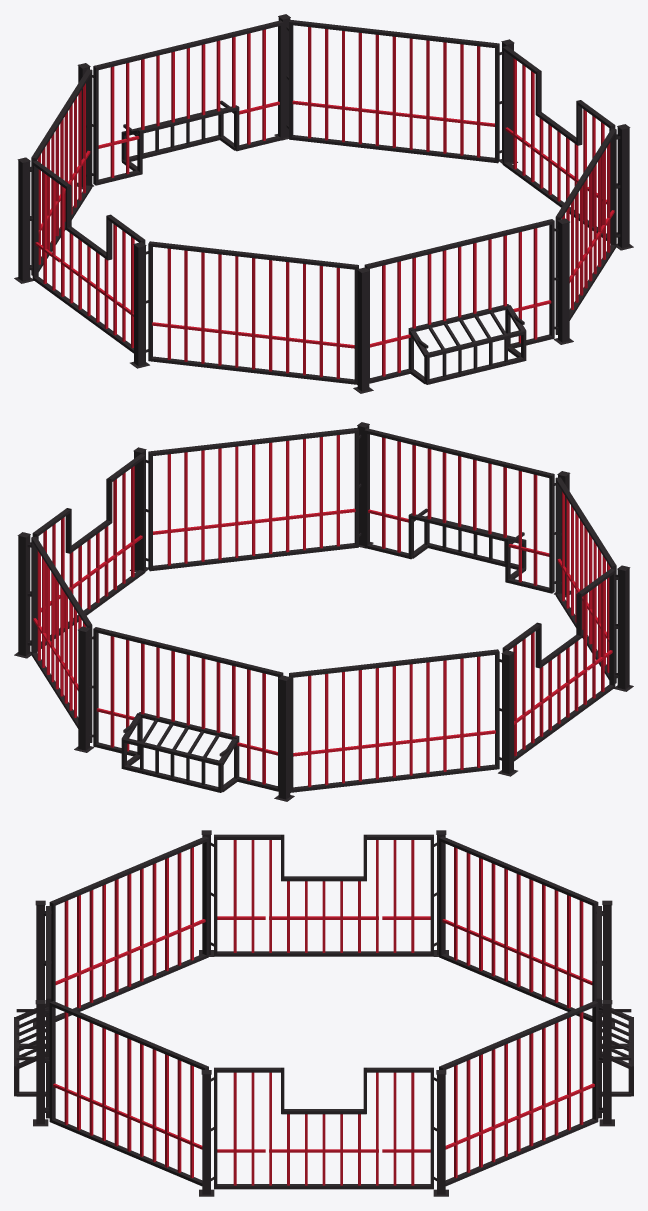
The model's file is gamefields-panna-octa-hero.glb.
3 views of the same model, one above another, from view 1: azimuth 30°, elevation 25°; view 2: azimuth 150°, elevation 25°; view 3: azimuth 270°, elevation 25° (orthographic).
Visible parts, largest first — view 1: Panel 6 wypelnienie, Panel 2 wypelnienie, Panel 5 wypelnienie, Panel 3 wypelnienie, Panel 7 wypelnienie, Panel 8 wypelnienie, Panel 7 bramka, Panel 1 wypelnienie, Panel 4 wypelnienie, Panel 2 rama, Panel 6 rama, Panel 3 rama (+13 smaller); view 2: Panel 4 wypelnienie, Panel 8 wypelnienie, Panel 5 wypelnienie, Panel 7 wypelnienie, Panel 3 wypelnienie, Panel 2 wypelnienie, Panel 3 bramka, Panel 1 wypelnienie, Panel 6 wypelnienie, Panel 8 rama, Panel 4 rama, Panel 7 rama (+13 smaller); view 3: Panel 2 wypelnienie, Panel 8 wypelnienie, Panel 4 wypelnienie, Panel 6 wypelnienie, Panel 1 wypelnienie, Panel 5 wypelnienie, Panel 1 rama, Panel 5 rama, Panel 4 rama, Panel 6 rama, Panel 2 rama, Panel 8 rama (+10 smaller).
Boxes of the visible parts, left/top/right/bottom form: Panel 6 wypelnienie: left=152, top=248, right=354, bottom=379; Panel 2 wypelnienie: left=292, top=27, right=494, bottom=157; Panel 5 wypelnienie: left=35, top=173, right=134, bottom=348; Panel 3 wypelnienie: left=98, top=29, right=279, bottom=177; Panel 7 wypelnienie: left=370, top=228, right=551, bottom=376; Panel 8 wypelnienie: left=562, top=142, right=614, bottom=309; Panel 7 bramka: left=408, top=304, right=526, bottom=384; Panel 1 wypelnienie: left=505, top=58, right=606, bottom=233; Panel 4 wypelnienie: left=37, top=83, right=90, bottom=264; Panel 2 rama: left=286, top=19, right=502, bottom=163; Panel 6 rama: left=146, top=241, right=358, bottom=384; Panel 3 rama: left=92, top=20, right=283, bottom=185; Panel 4 wypelnienie: left=293, top=656, right=495, bottom=787; Panel 8 wypelnienie: left=153, top=435, right=355, bottom=565; Panel 5 wypelnienie: left=513, top=581, right=612, bottom=756; Panel 7 wypelnienie: left=368, top=437, right=549, bottom=585; Panel 3 wypelnienie: left=96, top=636, right=277, bottom=784; Panel 2 wypelnienie: left=33, top=550, right=85, bottom=717; Panel 3 bramka: left=121, top=712, right=239, bottom=792; Panel 1 wypelnienie: left=41, top=466, right=142, bottom=641; Panel 6 wypelnienie: left=557, top=491, right=610, bottom=672; Panel 8 rama: left=145, top=427, right=361, bottom=571; Panel 4 rama: left=289, top=649, right=501, bottom=792; Panel 7 rama: left=364, top=428, right=555, bottom=593; Panel 2 wypelnienie: left=445, top=1012, right=594, bottom=1178; Panel 8 wypelnienie: left=53, top=1012, right=202, bottom=1178; Panel 4 wypelnienie: left=442, top=847, right=592, bottom=1008; Panel 6 wypelnienie: left=55, top=847, right=205, bottom=1008; Panel 1 wypelnienie: left=217, top=1072, right=430, bottom=1185; Panel 5 wypelnienie: left=217, top=840, right=430, bottom=952; Panel 1 rama: left=211, top=1067, right=436, bottom=1189; Panel 5 rama: left=210, top=834, right=437, bottom=956; Panel 4 rama: left=439, top=836, right=602, bottom=1021; Panel 6 rama: left=45, top=836, right=208, bottom=1021; Panel 2 rama: left=439, top=1001, right=602, bottom=1186; Panel 8 rama: left=45, top=1001, right=208, bottom=1186.
Bounding box in the file's own units: 5.3 × 1.22 × 5.64.
